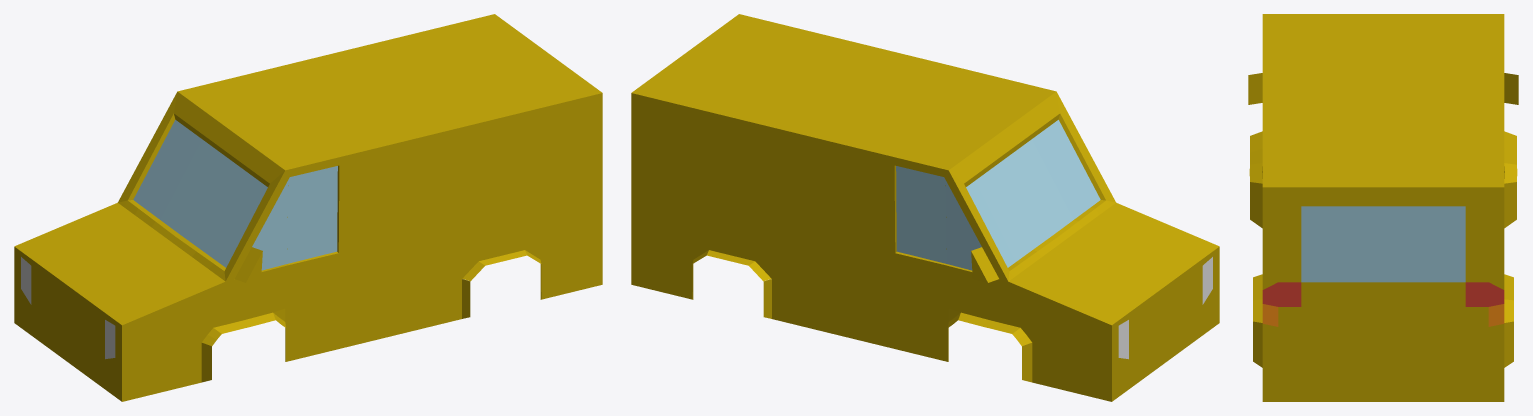
Rendered from yellow DigiVan.fbx.
The picture shows the model from 3 angles, left to right: view 1: azimuth 30°, elevation 25°; view 2: azimuth 150°, elevation 25°; view 3: azimuth 270°, elevation 25°; orthographic projection. The views are drawn at different scales.
Parts seen in each view (by area): view 1: Cube; view 2: Cube; view 3: Cube.
Part boxes in pixels (box(x1,y1,x2,y2)): Cube: box(14, 14, 602, 401); Cube: box(631, 14, 1219, 401); Cube: box(1248, 14, 1518, 401).
Size of the model in its own units: 952 by 363 by 414.
